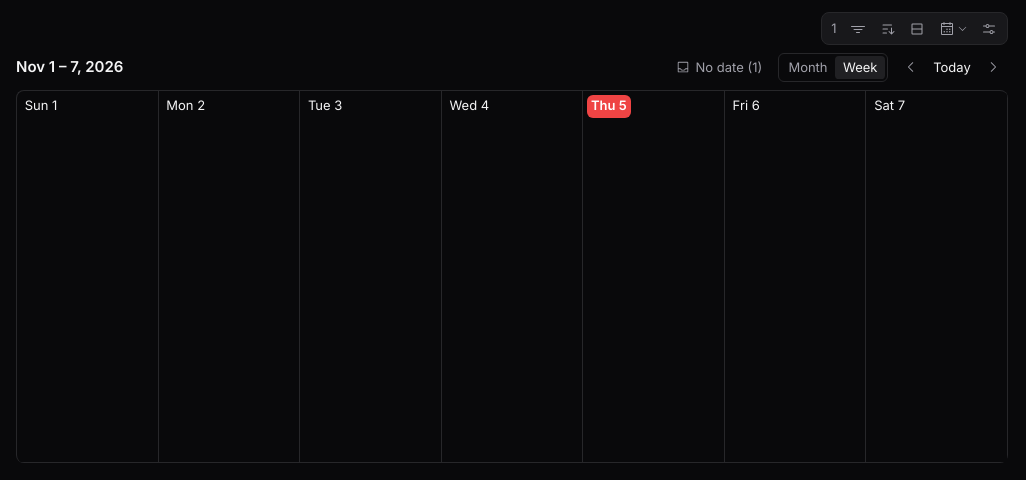
Test case: CalendarLayout modes and paging › previous and next step a week in week mode
Click the button named "Next".
click(993, 67)  # box [978, 54, 1008, 81]
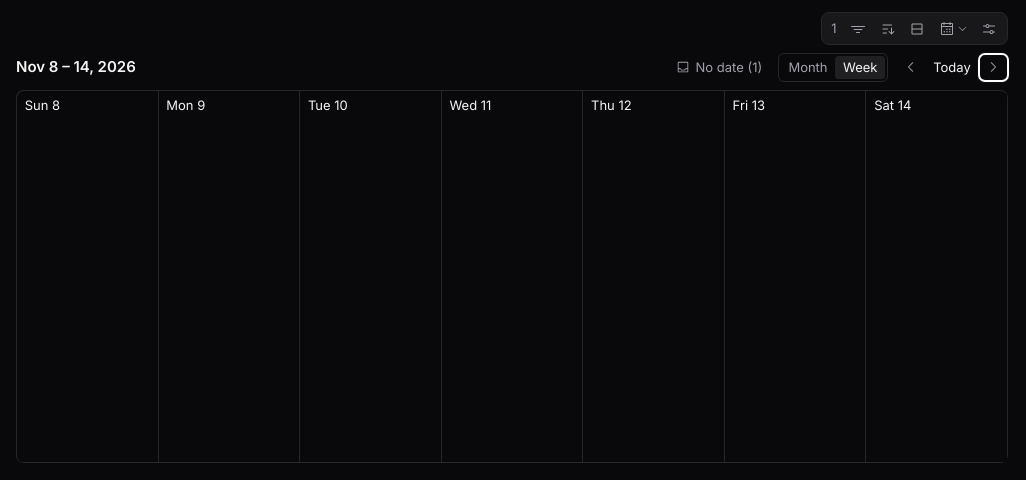
expect the heading with test id "calendar-title" reads "Nov 8 – 14, 2026": met, box [16, 57, 136, 76]
Click the button named "Previous".
click(911, 67)  # box [896, 54, 926, 81]
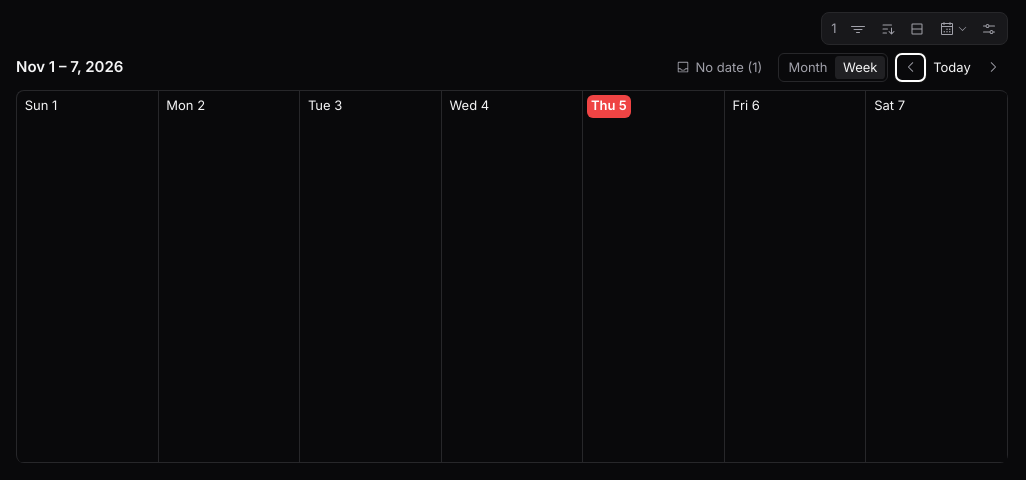
Click the button named "Previous".
click(911, 67)  # box [896, 54, 926, 81]
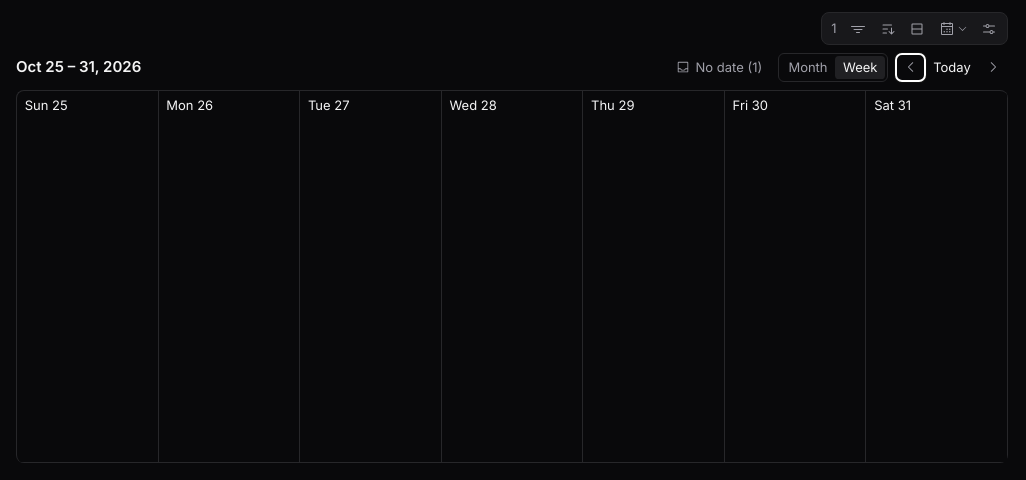
expect the heading with test id "calendar-title" reads "Oct 25 – 31, 2026": met, box [16, 57, 141, 76]
